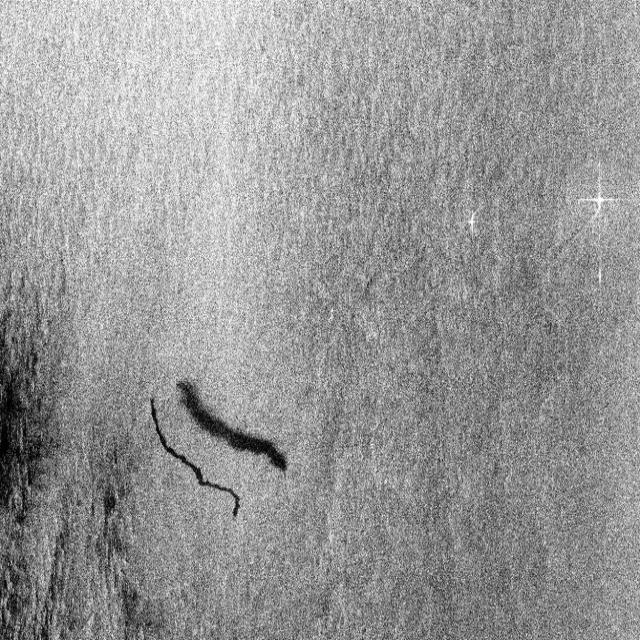look-alike: (0, 314, 56, 540), (74, 445, 135, 629)
oil-spill: (143, 396, 243, 524), (175, 375, 292, 475)
ship: (579, 170, 621, 234), (463, 202, 480, 242)
